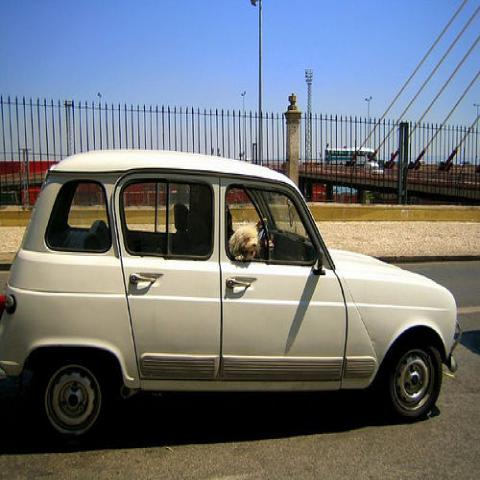bus: (324, 146, 379, 164)
car: (0, 152, 459, 439), (363, 162, 385, 175)
